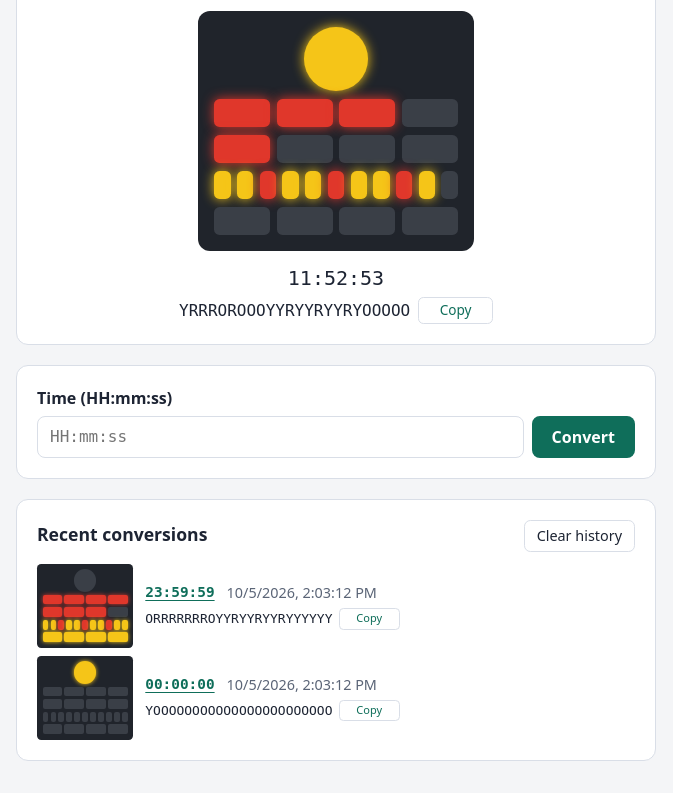
Test case: Revisiting a conversion › shows the conversion opened last, even when one opened before it answers later
(page scrolled)
Click the link "00:00:00". click: (180, 685)
box: [145,674,215,696]
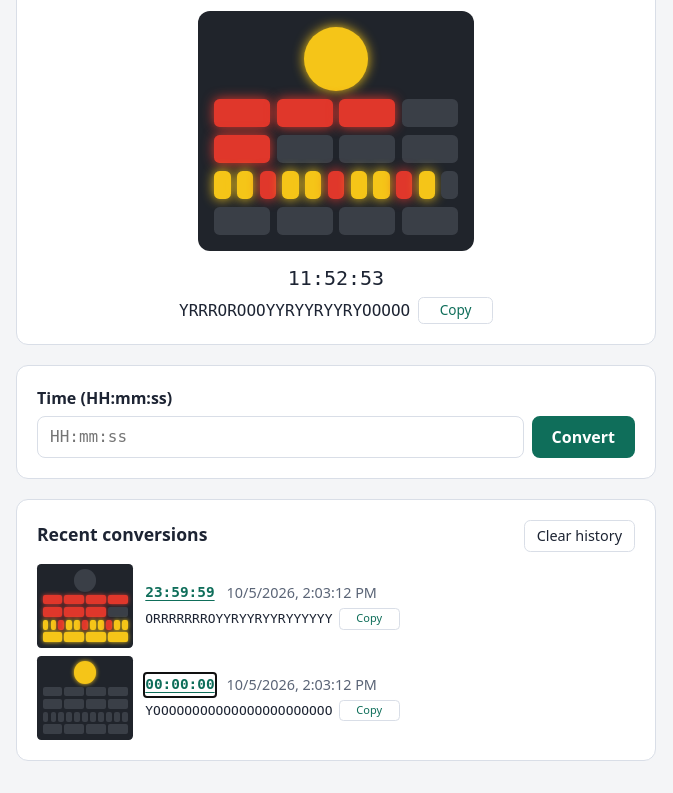
Click the link "23:59:59". click: (180, 593)
box: [145,582,215,604]
(page scrolled)
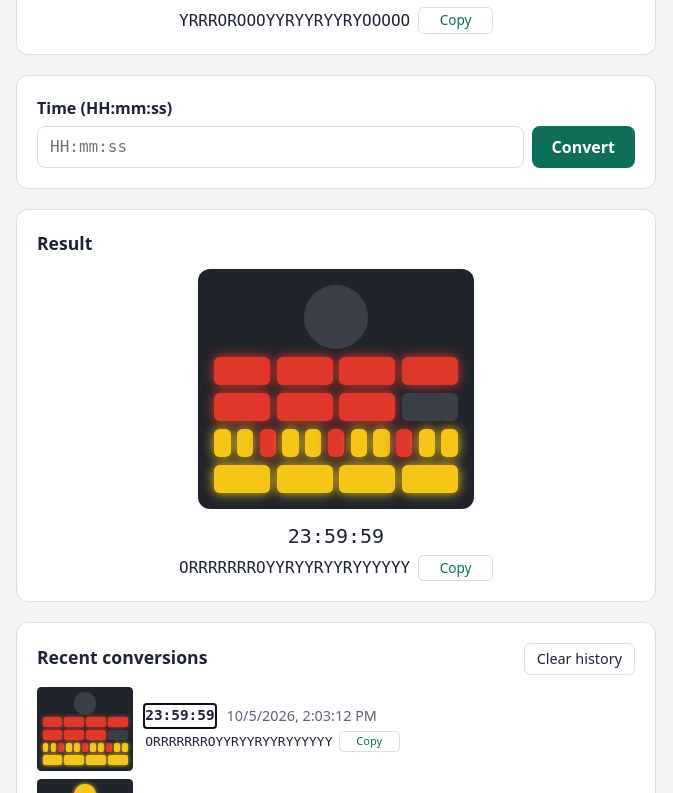
expect the picture named "Berlin Clock showing 23:59:59" below "Result" is shown: met, box [198,269,474,509]
